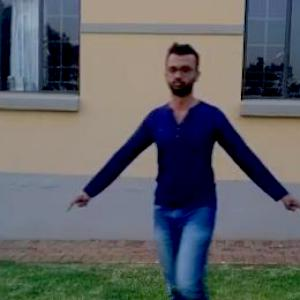land: (92, 59, 280, 299)
